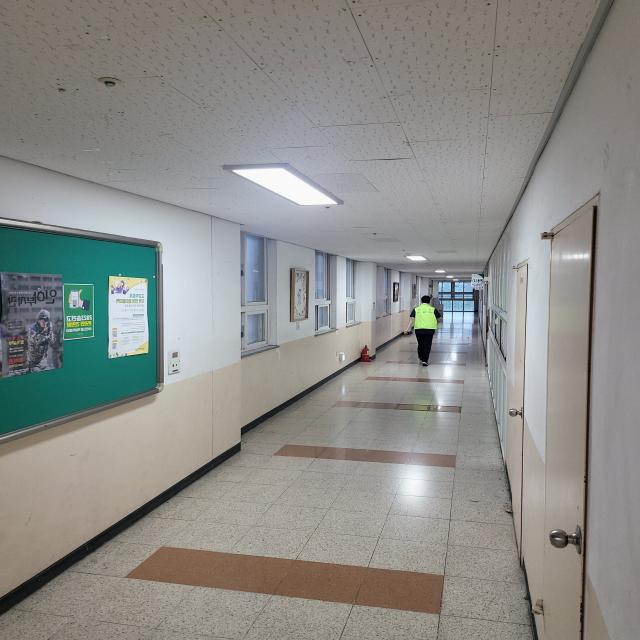weston_spy: (404, 294, 444, 338)
